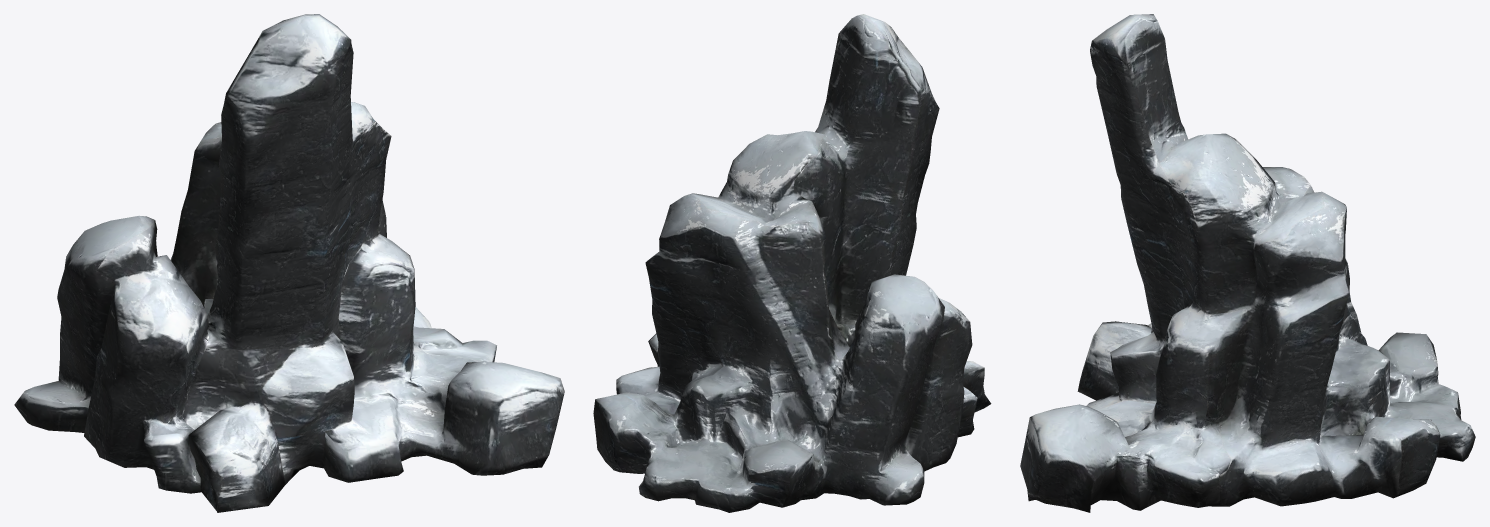
The model's file is rock-transformed.glb.
The picture shows the model from 3 angles, left to right: view 1: azimuth 30°, elevation 25°; view 2: azimuth 150°, elevation 25°; view 3: azimuth 270°, elevation 25°; orthographic projection. The views are drawn at different scales.
Visible parts, largest first — view 1: Object_2; view 2: Object_2; view 3: Object_2.
Part boxes in pixels (<box>): Object_2: <box>14,14,564,512</box>; Object_2: <box>593,14,991,512</box>; Object_2: <box>1020,14,1475,512</box>.
Size of the model in its own units: 59.38 by 64.81 by 65.58.
1 material, 1 textured.
